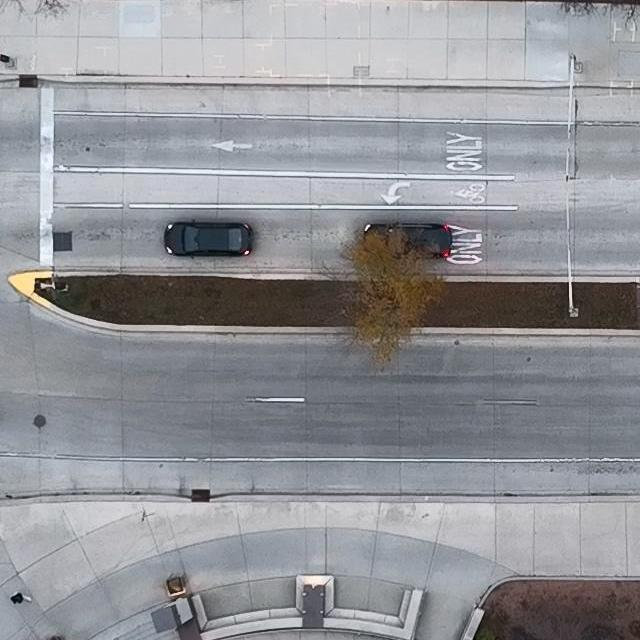car: (362, 221, 453, 260), (165, 220, 254, 259)
